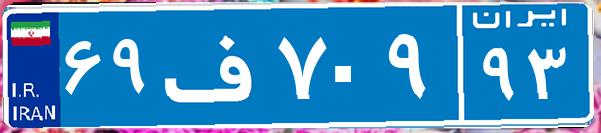0: (330, 28, 385, 110)
3: (525, 38, 570, 115)
6: (57, 26, 110, 107)
7: (273, 28, 330, 110)
9: (385, 28, 445, 110), (475, 38, 525, 113), (110, 28, 158, 105)
ف: (158, 15, 273, 115)
